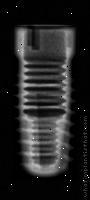Camlog: (13, 26, 77, 181)
